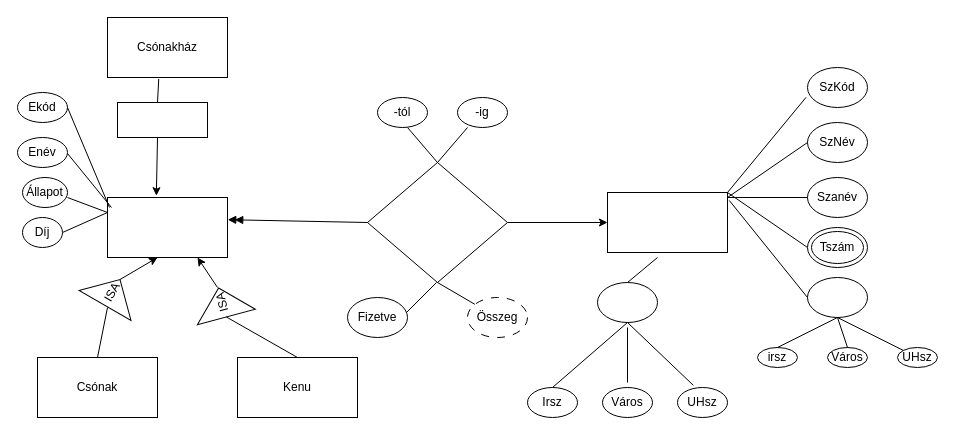
Image size: 955x435. Some labels were removed from this diagram. Here are the shapes that lost their labels. From the top down, the centre of each, then its label:
At pixel 162 120: "HAS_A".
At pixel 167 227: "Eszköz".
At pixel 437 222: "Kölcsönző".
At pixel 667 222: "Személy".
At pixel 627 302: "SzaCím".
At pixel 837 297: "Szlakcím".
